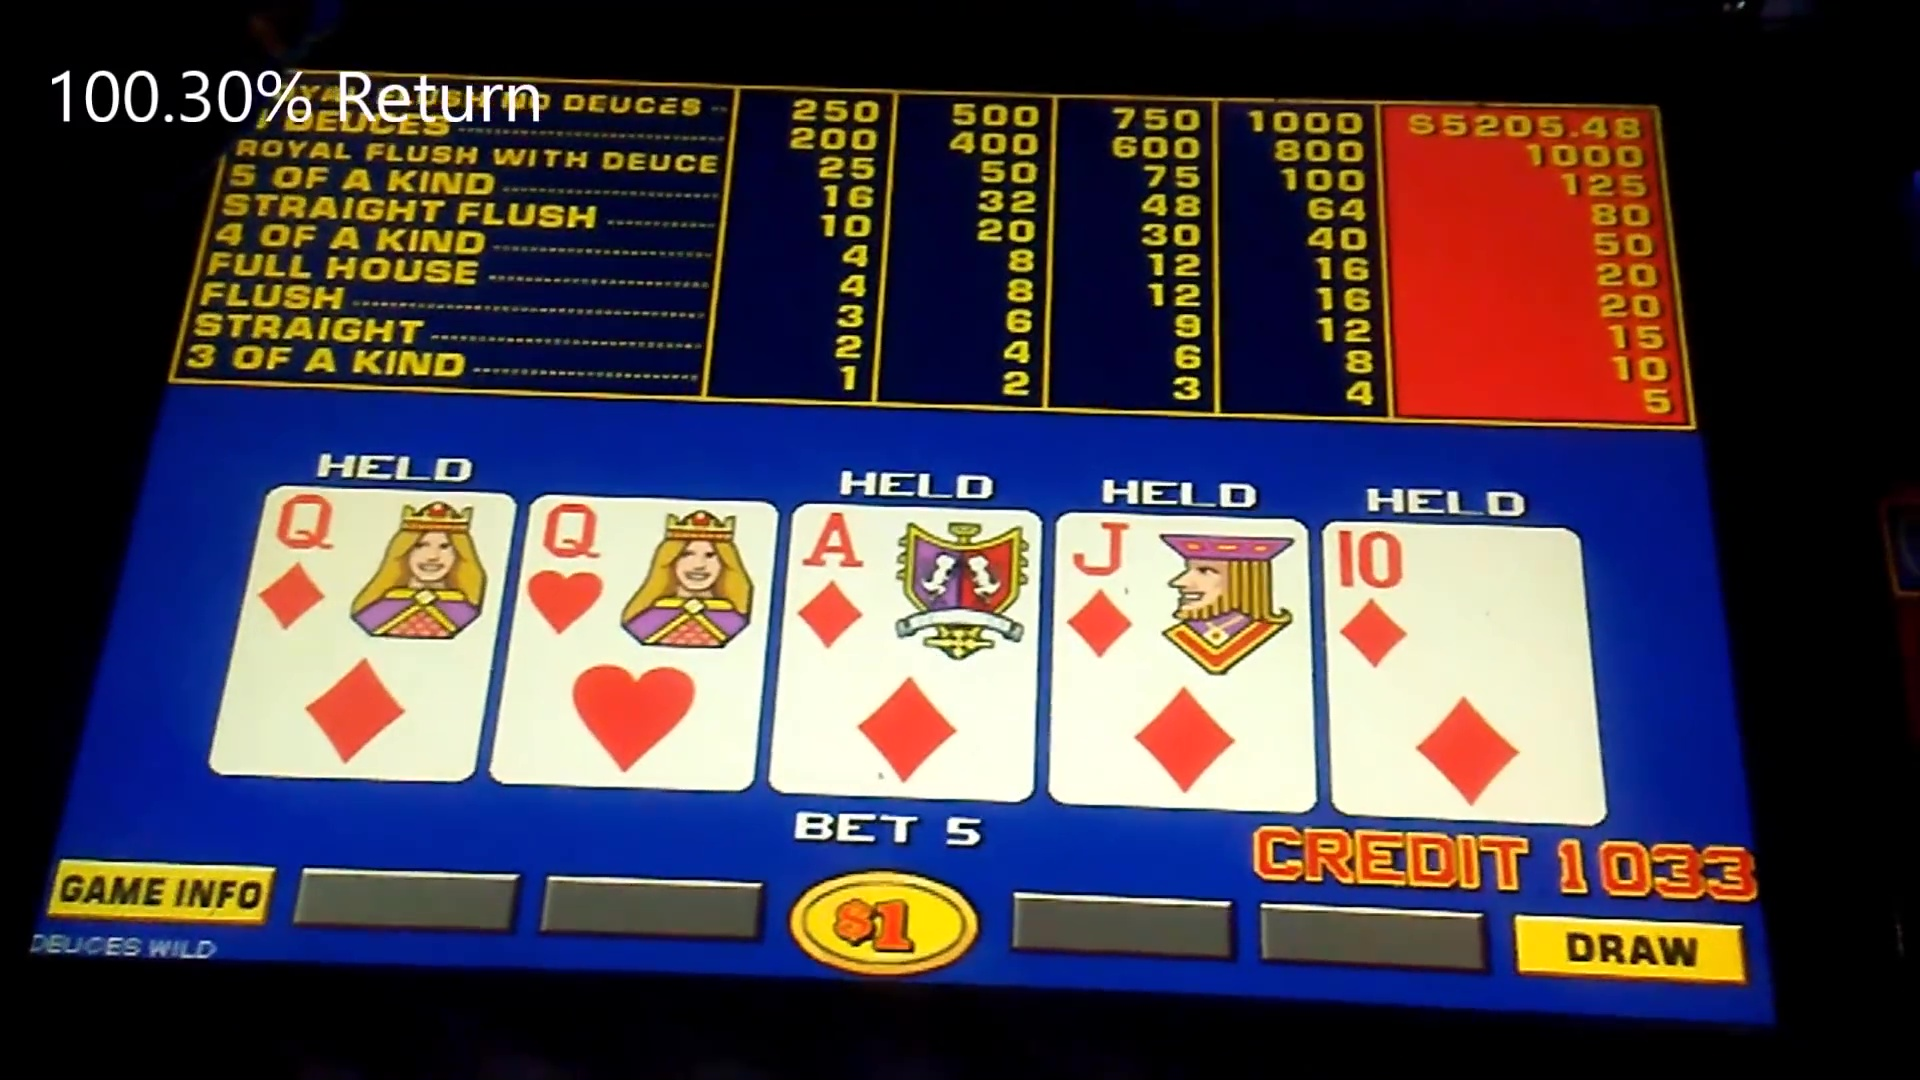DA: (782, 506, 1043, 800)
DJ: (1055, 512, 1313, 814)
DQ: (255, 491, 489, 779)
DT: (1331, 521, 1592, 824)
HQ: (505, 500, 775, 793)
